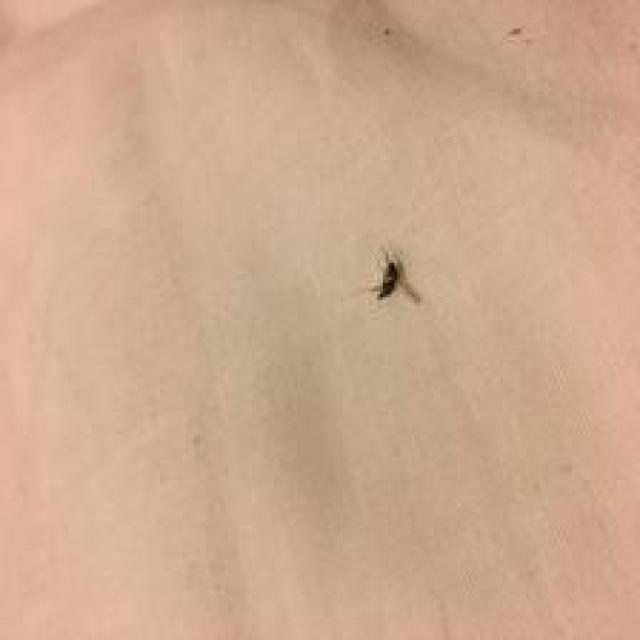Culex: (367, 246, 422, 306)
